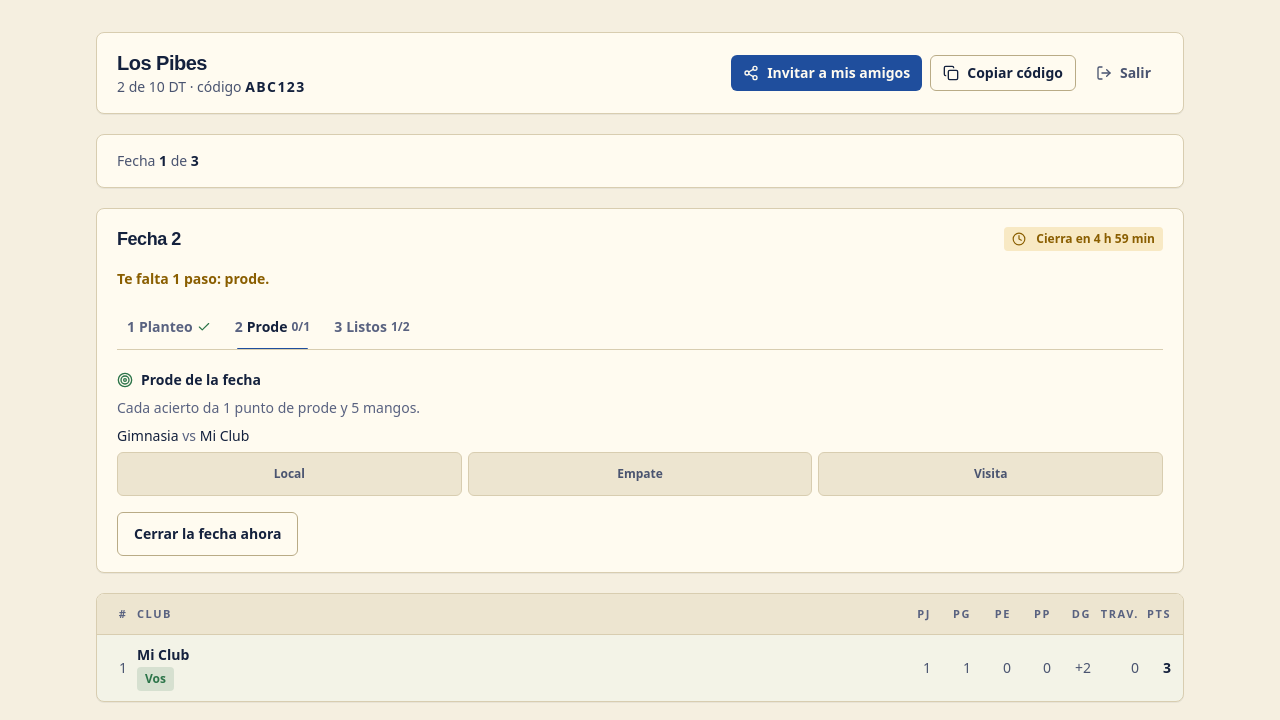
Test: pantalla de la liga de amigos › quiénes ya eligieron está en su propio paso; con el planteo hecho abre en el prode
Expected: the radio button with aria-label "Gana Gimnasia" is shown, [117,452,462,496]
Click the tab "3 Listos 1/2" at (372, 327), box [324,305,420,349]
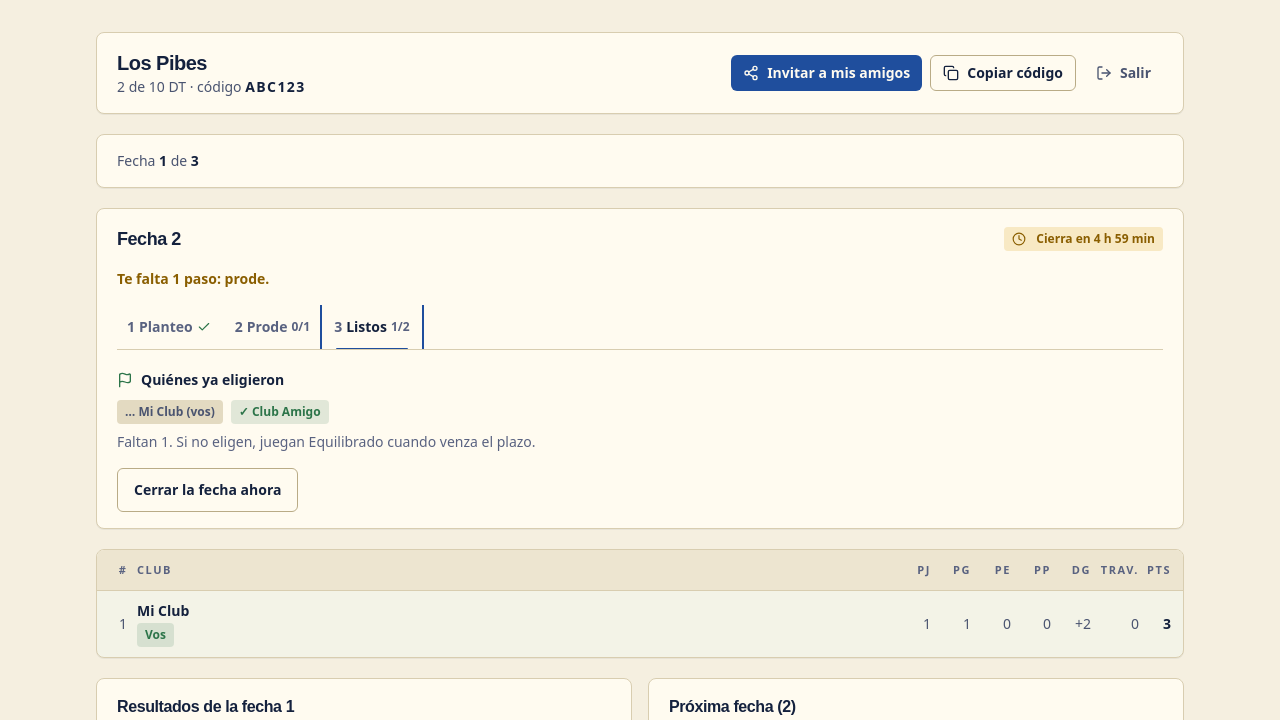
Result: the text "✓ Club Amigo" is shown at [231,400,329,424]
